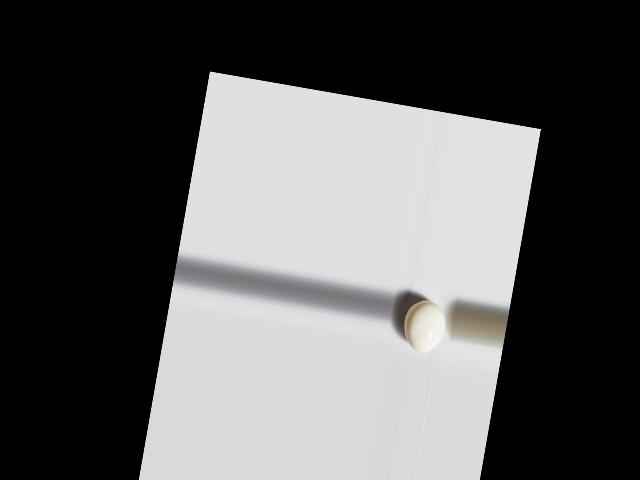egg: (399, 296, 448, 354)
